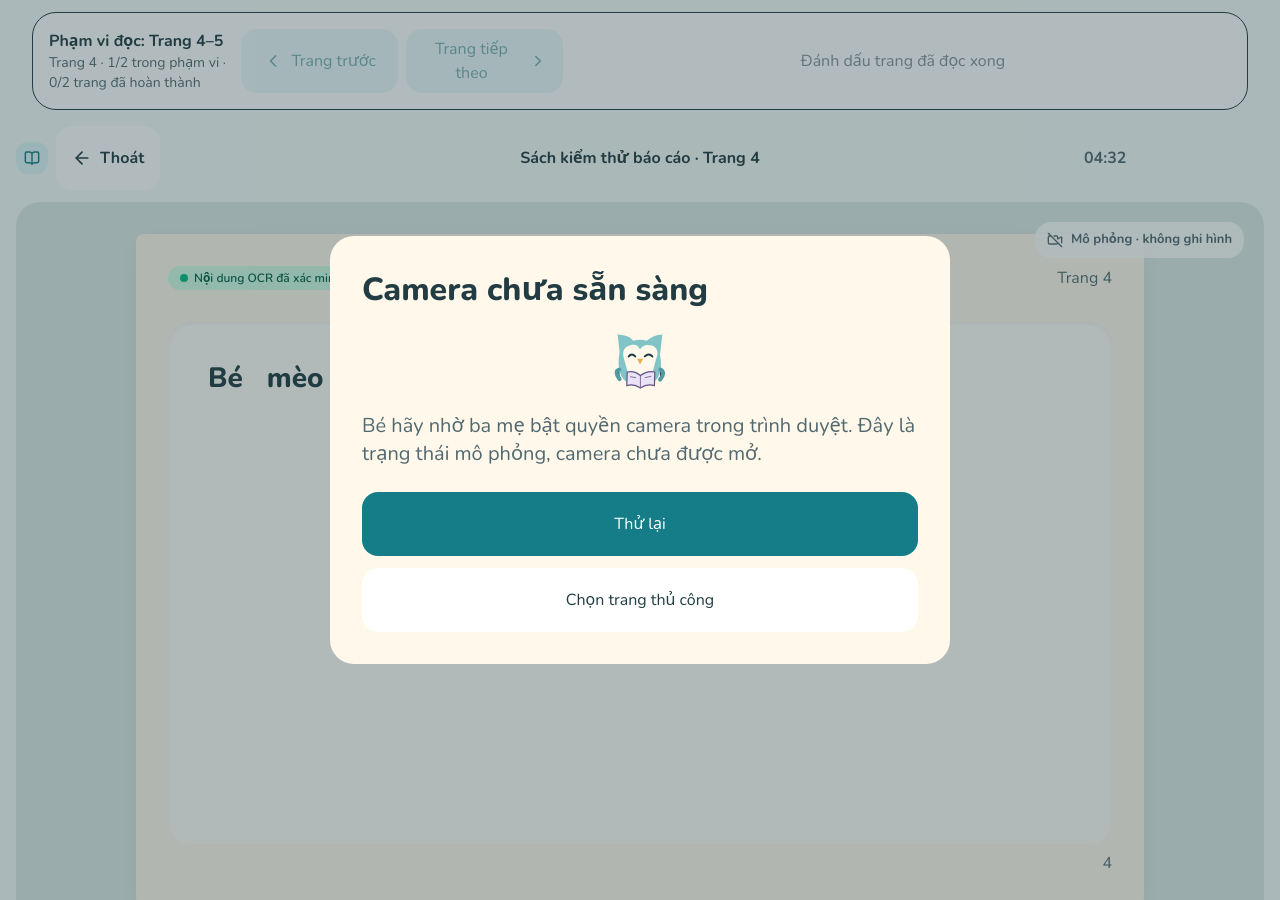
ReadingScreen presentation with typed test-local service responses › shows permission recovery and forwards the requested device
The image size is (1280, 900).
Expected: the dialog "Camera chưa sẵn sàng" shows "camera chưa được mở", [362,412,915,467]
Click the button "Thử lại".
click(640, 524)  # box [362,492,918,556]
(page scrolled)
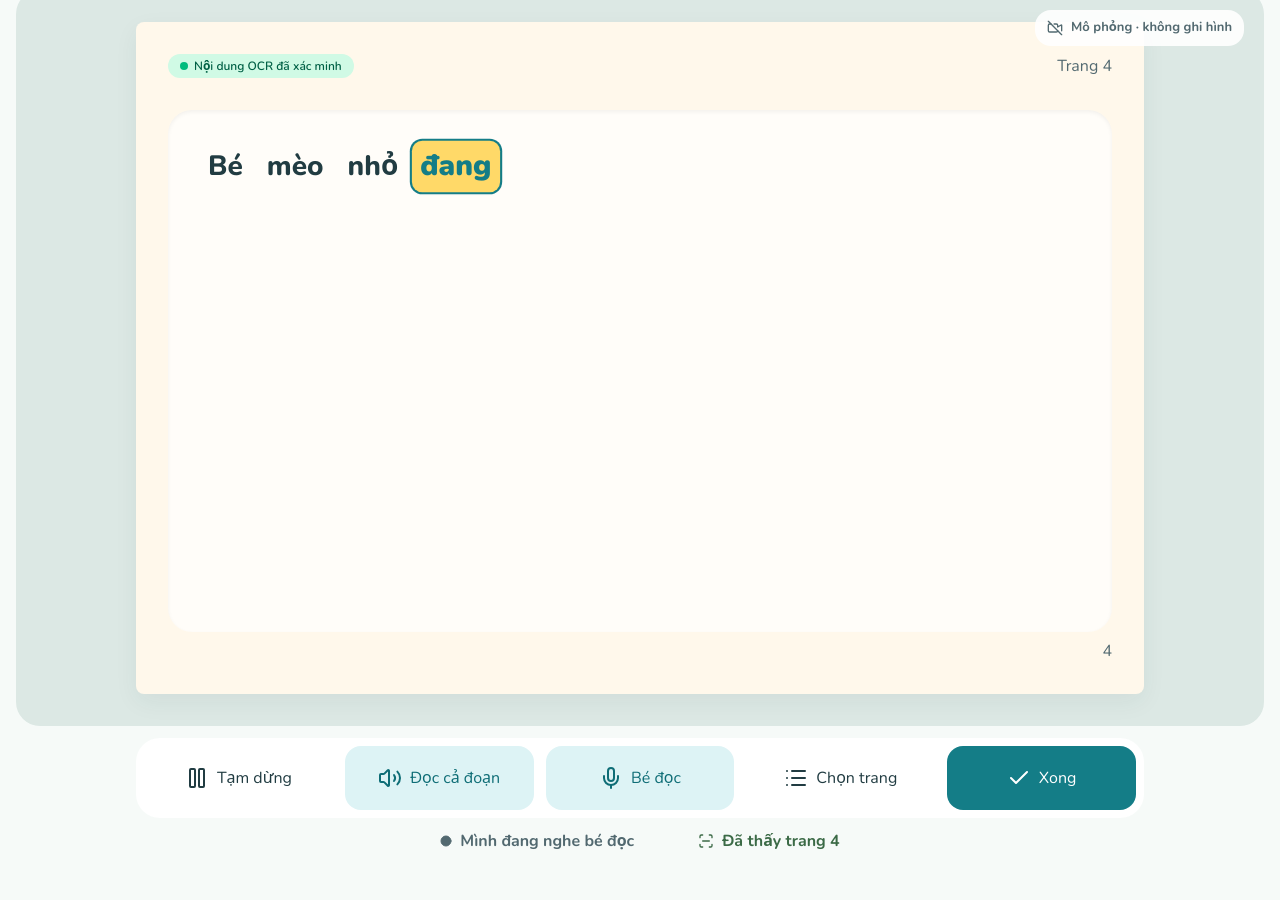
Expected: the text "Mình đang nghe bé đọc" is shown, [440,830,634,852]
